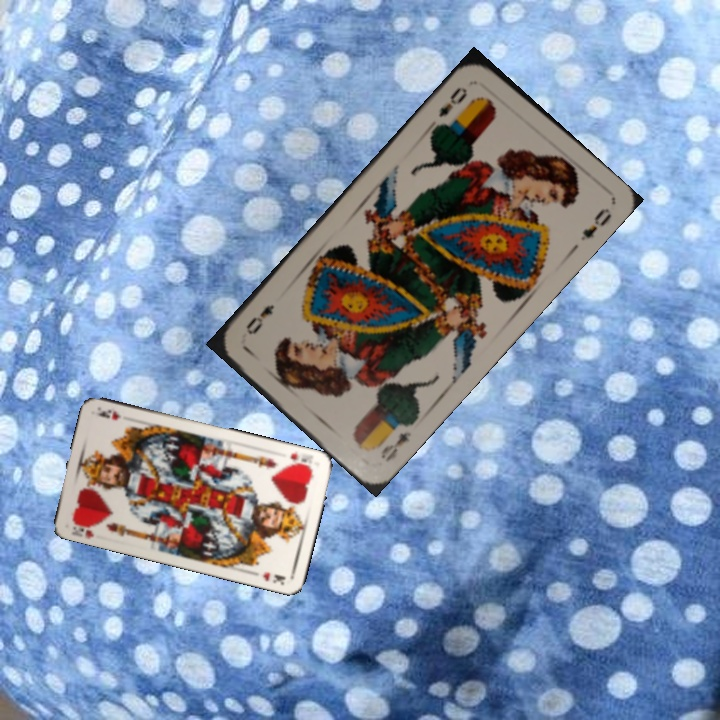EO: (376, 427, 414, 465), (434, 83, 470, 120)
HK: (68, 516, 98, 541), (285, 448, 315, 472)
